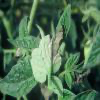Tomato leaf late blight: (29, 4, 74, 89)
